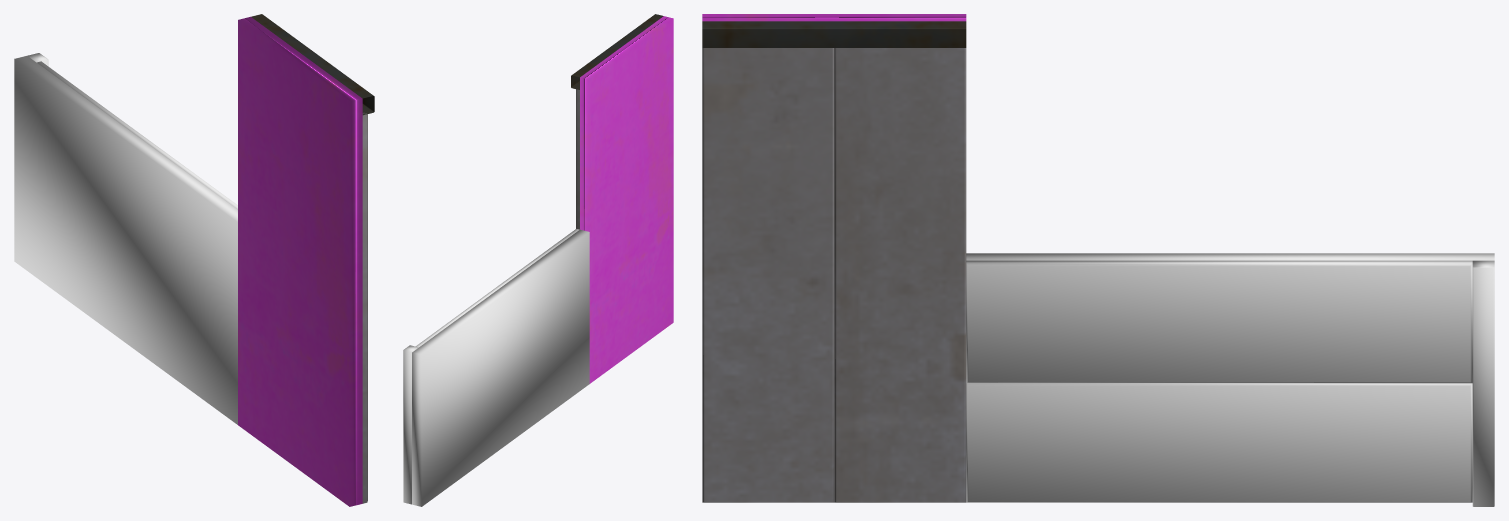
Rendered from SM_Wall_Basic_Medium.fbx.
3 renders of one model, left to right at view 1: azimuth 30°, elevation 25°; view 2: azimuth 150°, elevation 25°; view 3: azimuth 270°, elevation 25°, orthographic. The views are drawn at different scales.
Visible parts, largest first — view 1: SM_Wall_Basic_Medium, SM_Wall_Basic_Medium_ConvexHulls; view 2: SM_Wall_Basic_Medium_ConvexHulls, SM_Wall_Basic_Medium; view 3: SM_Wall_Basic_Medium_ConvexHulls, SM_Wall_Basic_Medium.
Boxes of the visible parts, x1=… form: SM_Wall_Basic_Medium: x1=238, y1=14, x2=374, y2=506; SM_Wall_Basic_Medium_ConvexHulls: x1=14, y1=53, x2=237, y2=424; SM_Wall_Basic_Medium_ConvexHulls: x1=403, y1=229, x2=589, y2=506; SM_Wall_Basic_Medium: x1=571, y1=14, x2=673, y2=383; SM_Wall_Basic_Medium_ConvexHulls: x1=966, y1=253, x2=1494, y2=506; SM_Wall_Basic_Medium: x1=702, y1=14, x2=966, y2=502.
Bounding box in the file's own units: 0.3875 × 6 × 9.
